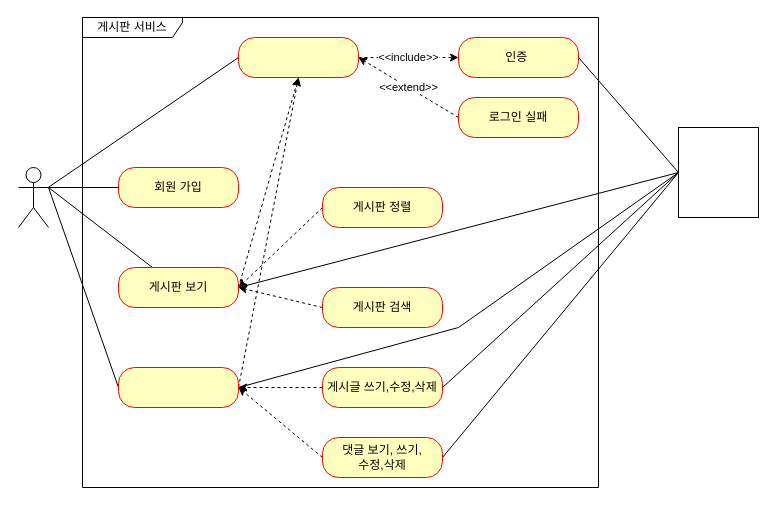
Some shapes in this 776 by 505 pixel diagram are drawn without their labels. Here are the shapes that lost their labels. From the top down, the centre of each, then its label:
At pixel 298 57: "회원 로그인".
At pixel 718 172: "DB".
At pixel 33 197: "이용자".
At pixel 178 387: "게시글 보기".
